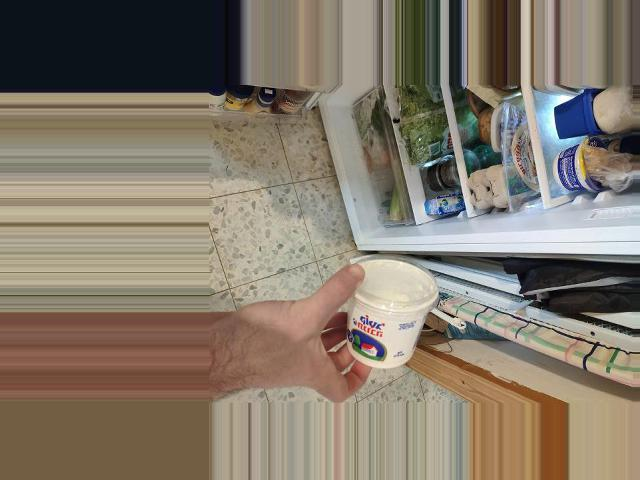cotage: (331, 253, 441, 372)
